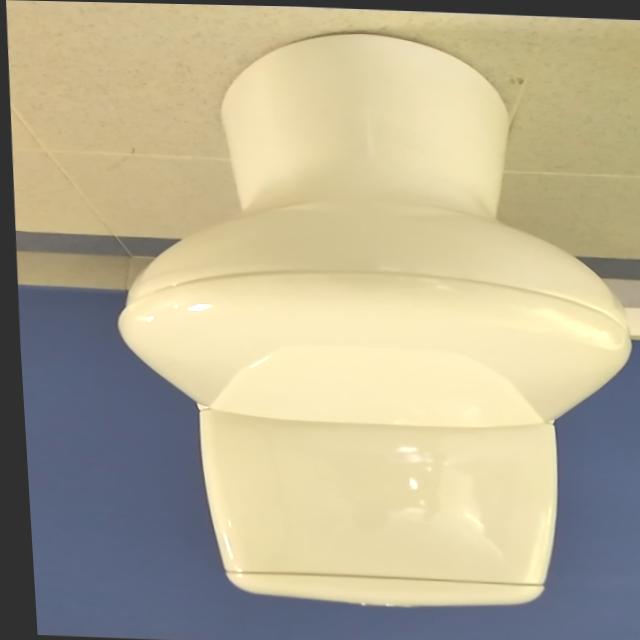toilet: (93, 22, 640, 614)
